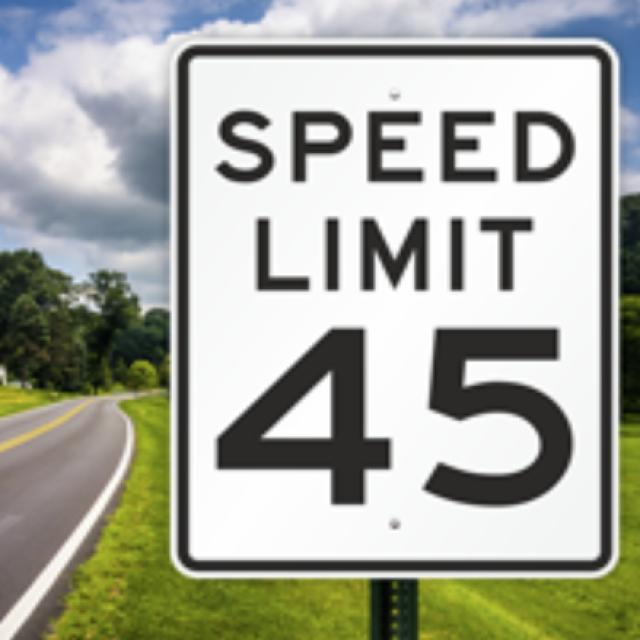speedLimit45: (183, 61, 603, 561)
